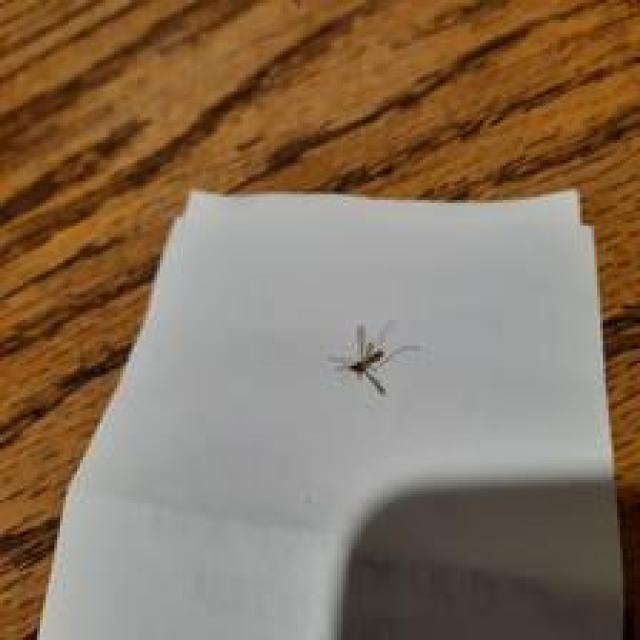Culex: (330, 318, 421, 396)
